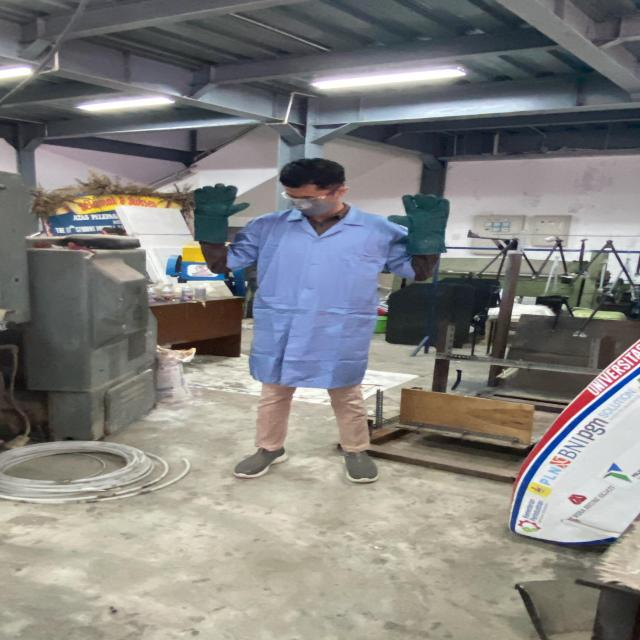glasses: (277, 186, 335, 202)
hand_glove: (381, 191, 456, 238), (187, 181, 256, 226)
person: (177, 154, 452, 492)
shoes: (225, 441, 290, 480), (330, 441, 383, 486)
